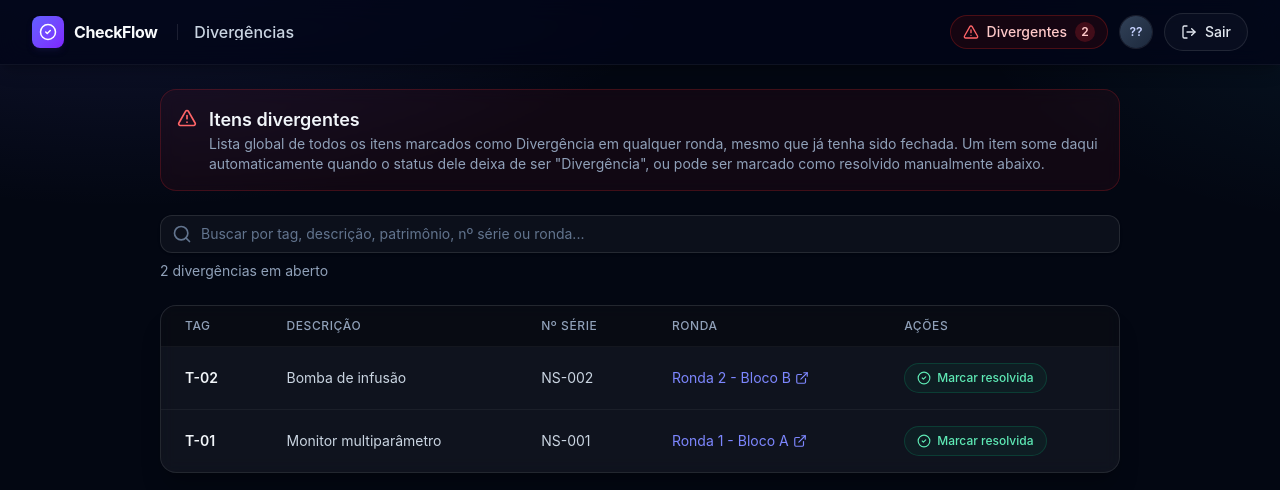
Test: DivergentSearchPage › filtra itens pela busca (tag, número de série ou ronda)
Type "NS-002" into the field with placeholder "Buscar por tag, descrição, patrimônio, nº série ou ronda...".
click(640, 234); type("NS-002")  # box [160,215,1120,253]
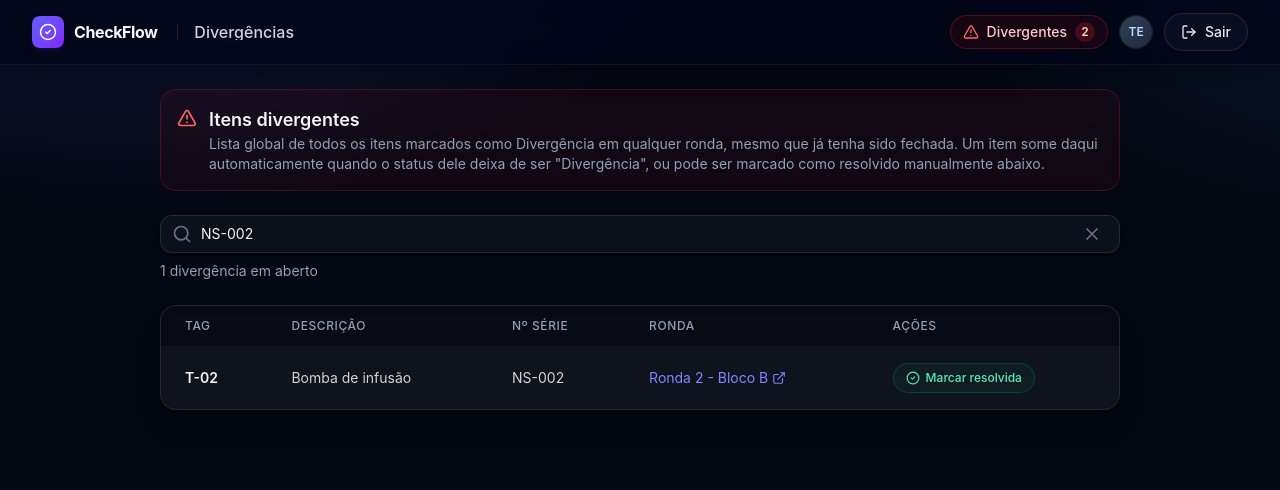
Expected: the text "T-02" is shown, [161,346,267,409]
Expected: the text "T-01" is gone
